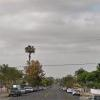Car: (65, 86, 80, 95)
